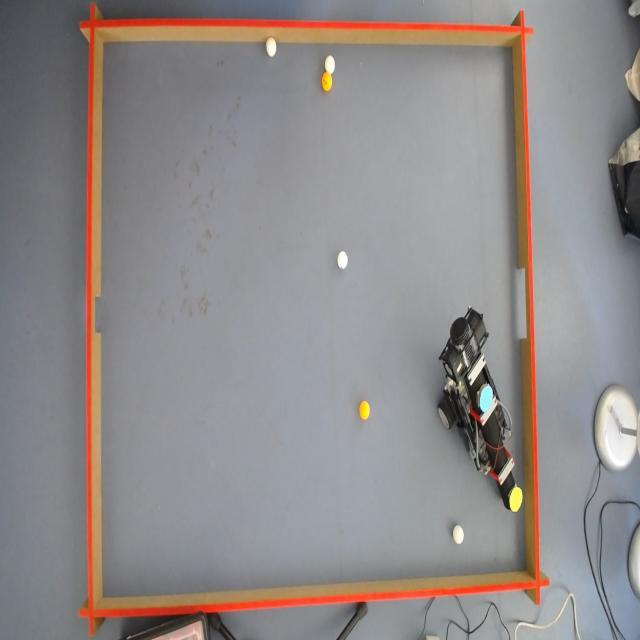orange: (320, 72, 332, 93), (361, 401, 372, 418)
robot: (444, 302, 518, 506)
robot-front: (510, 487, 523, 512)
robot-rear: (480, 384, 493, 412)
white: (266, 38, 278, 60), (452, 526, 464, 546), (336, 250, 347, 270), (326, 54, 336, 72)
